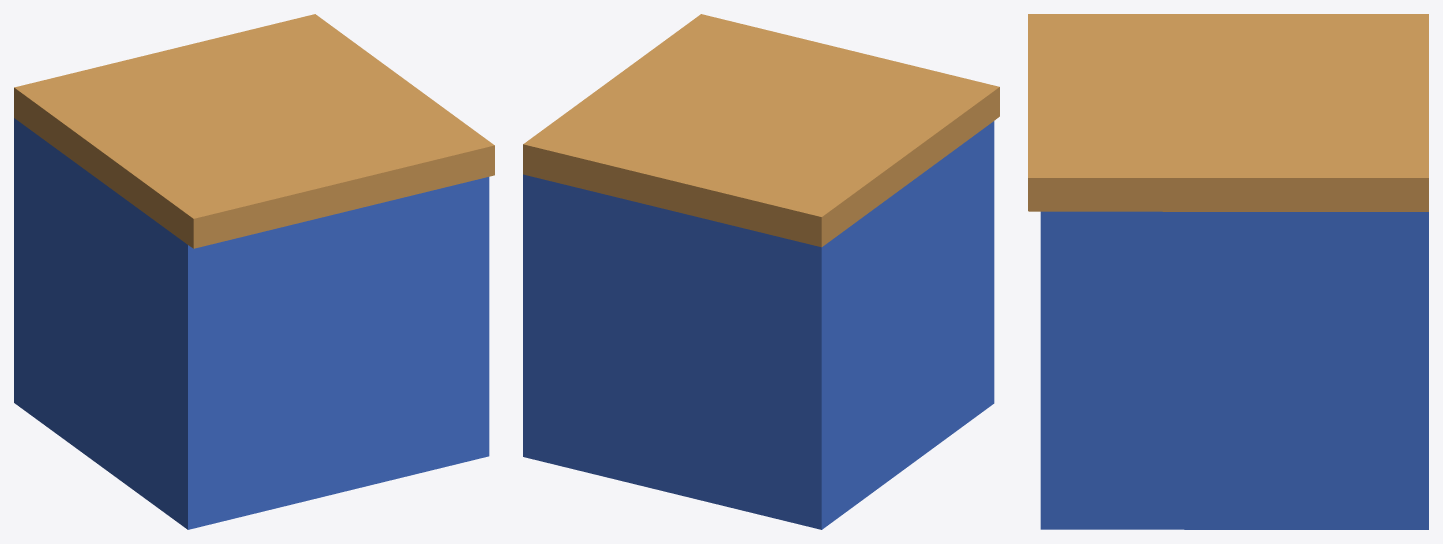
The model's file is SM_ToyCounter.FBX.
3 renders of one model, left to right at view 1: azimuth 30°, elevation 25°; view 2: azimuth 150°, elevation 25°; view 3: azimuth 270°, elevation 25°, orthographic. The views are drawn at different scales.
Parts seen in each view (by area): view 1: NormalCounter_Front; view 2: NormalCounter_Front; view 3: NormalCounter_Front.
Part boxes in pixels (left/top/right/bottom): NormalCounter_Front: left=14, top=14, right=494, bottom=529; NormalCounter_Front: left=523, top=14, right=999, bottom=529; NormalCounter_Front: left=1028, top=14, right=1428, bottom=529.
Bounding box in the file's own units: 91.18 × 91.25 × 94.13.
